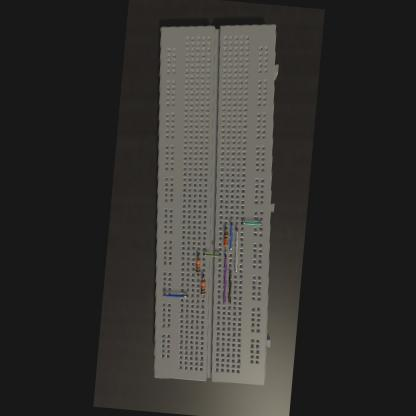breadboard: (130, 14, 298, 387)
resistor: (222, 231, 228, 246), (194, 258, 200, 273), (199, 280, 205, 294)
wire: (220, 254, 228, 304), (231, 228, 240, 272), (224, 270, 232, 304), (162, 292, 186, 298), (227, 222, 232, 250), (240, 221, 262, 226), (202, 252, 219, 257), (223, 228, 224, 232), (196, 274, 198, 276), (224, 247, 225, 249), (201, 295, 202, 297), (198, 253, 198, 258)
